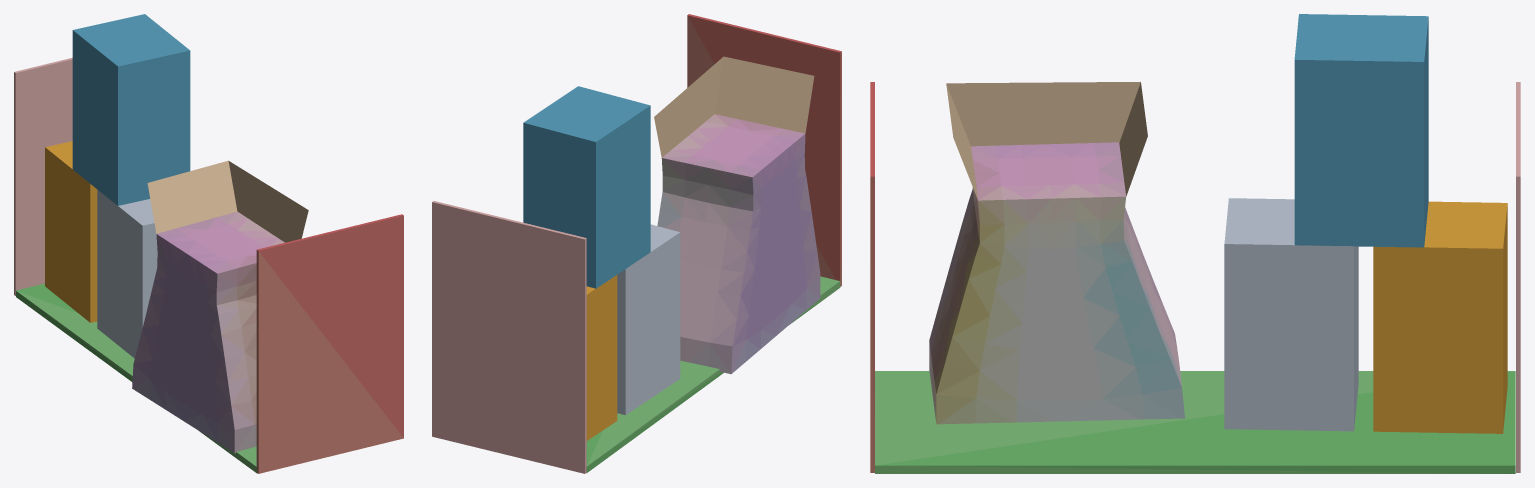
The picture shows the model from 3 angles, left to right: view 1: azimuth 30°, elevation 25°; view 2: azimuth 150°, elevation 25°; view 3: azimuth 270°, elevation 25°; orthographic projection. The views are drawn at different scales.
Visible parts, largest first — view 1: world; view 2: world; view 3: world.
Part boxes in pixels (left/top/right/bottom): world: left=14, top=14, right=403, bottom=473; world: left=432, top=14, right=841, bottom=473; world: left=870, top=14, right=1520, bottom=473.
Size of the model in its own units: 0.6634 by 1.16 by 1.8.
